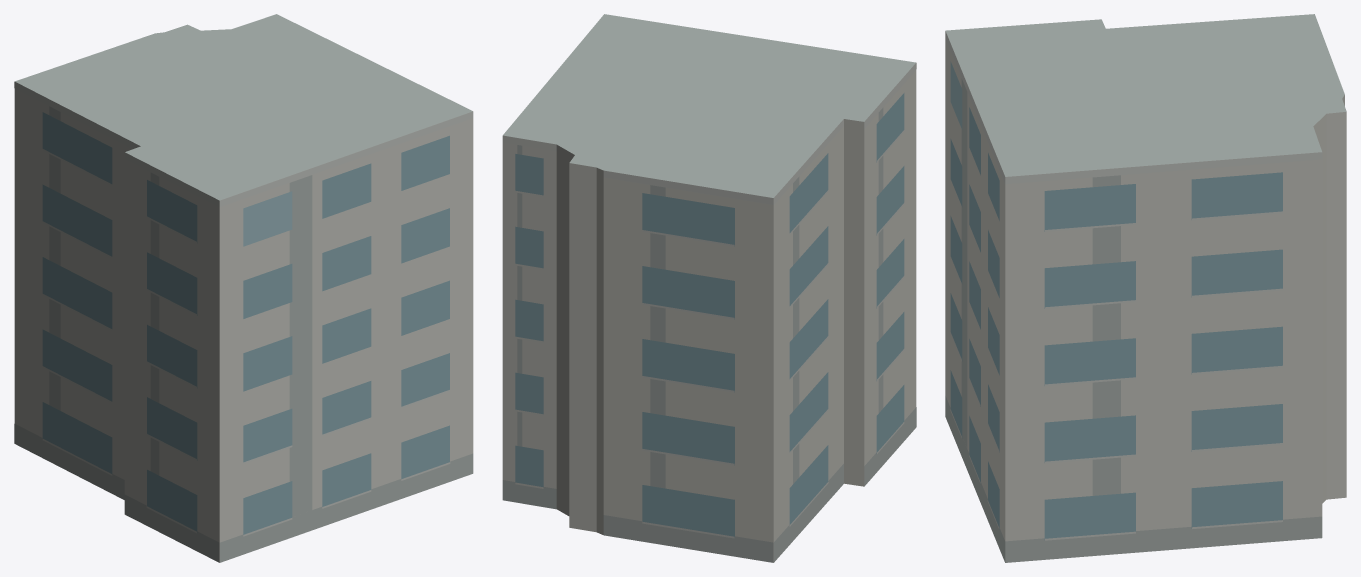
Rendered from survey-upis-32520558.glb.
3 views of the same model, side by side, from view 1: azimuth 30°, elevation 25°; view 2: azimuth 150°, elevation 25°; view 3: azimuth 270°, elevation 25° (orthographic). The views are drawn at different scales.
Parts seen in each view (by area): view 1: survey-upis-32520558.tmp; view 2: survey-upis-32520558.tmp; view 3: survey-upis-32520558.tmp.
Part boxes in pixels (x1,y1,x2,y2): survey-upis-32520558.tmp: (14, 14, 473, 562); survey-upis-32520558.tmp: (502, 14, 916, 562); survey-upis-32520558.tmp: (945, 14, 1346, 562).
Size of the model in its own units: 11.58 by 12.78 by 12.05.
